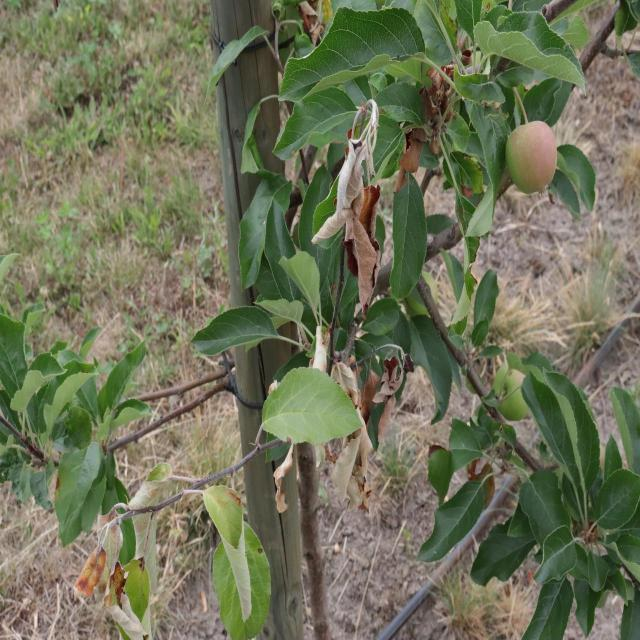-FireBlight-: (328, 98, 386, 320), (322, 337, 405, 416), (413, 66, 457, 158)
